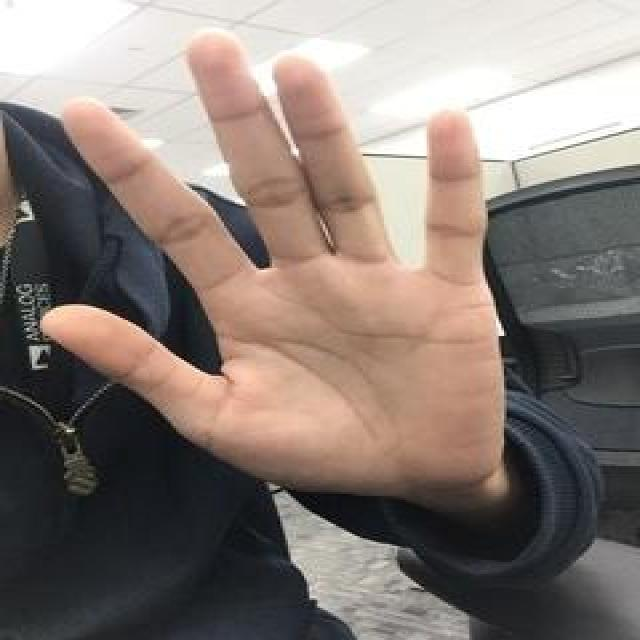hand: (33, 32, 508, 484)
